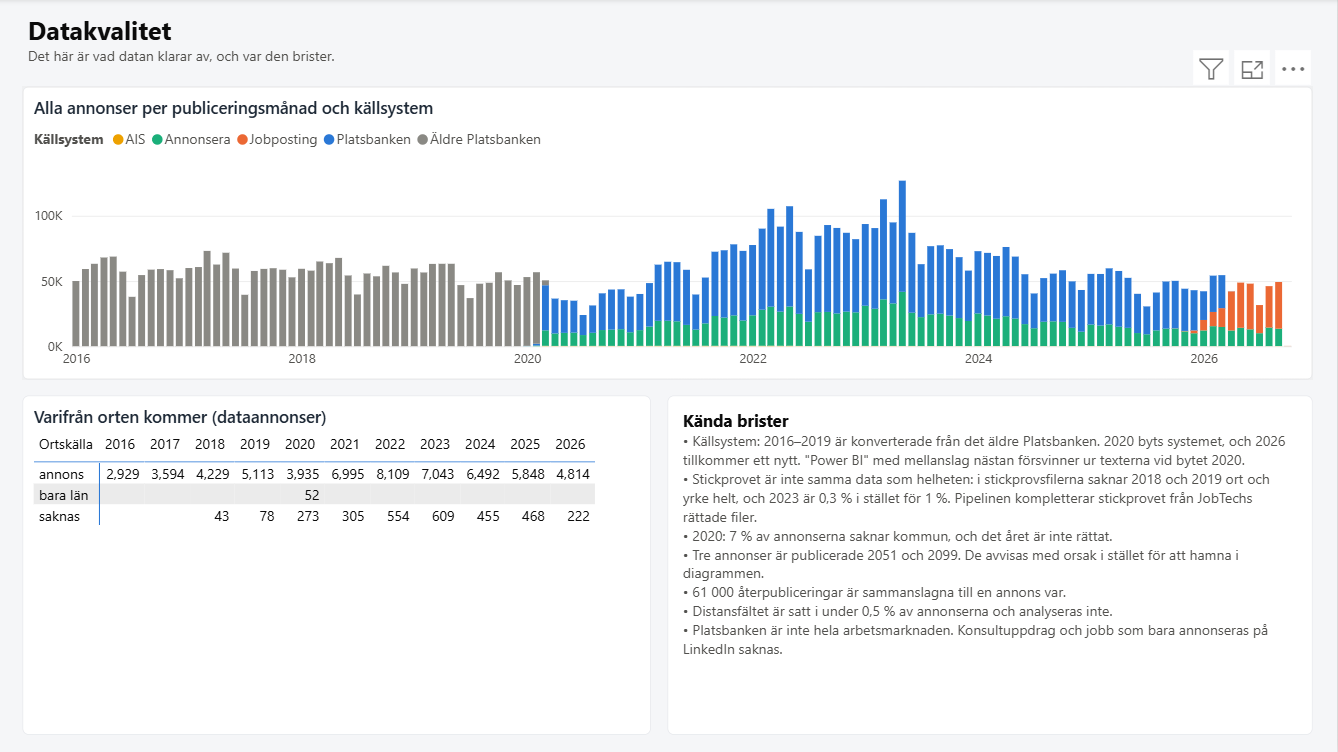

Layout of this report page (visuals, bound fields, positions):
{"tool":"powerbi","page":{"name":"Datakvalitet","canvas":[1280,720],"ordinal":5},"visuals":[{"type":"textbox","box":[24,8,900,64],"z":0},{"type":"columnChart","title":"Alla annonser per publiceringsmånad och källsystem","fields":{"Category":["Datum.Månadsstart"],"Series":["Annonsvolym.Källsystem"],"Y":["Mått.Annonser"]},"box":[24,84,1232,280],"z":1},{"type":"pivotTable","title":"Varifrån orten kommer (dataannonser)","fields":{"Columns":["Datum.År"],"Rows":["Dataannons.Ortskälla"],"Values":["Mått.Dataannonser"]},"box":[24,380,600,324],"z":2},{"type":"textbox","box":[640,380,616,324],"z":3}]}

Visuals, with their boxes in screenshot pixels (x1, y1, x2, y2), scaled from the page's 1280x720 canvas onto the 1338x752 screenshot:
textbox: box(25, 8, 966, 75)
"Alla annonser per publiceringsmånad och källsystem" columnChart: box(25, 88, 1313, 380)
"Varifrån orten kommer (dataannonser)" pivotTable: box(25, 397, 652, 735)
textbox: box(669, 397, 1313, 735)
